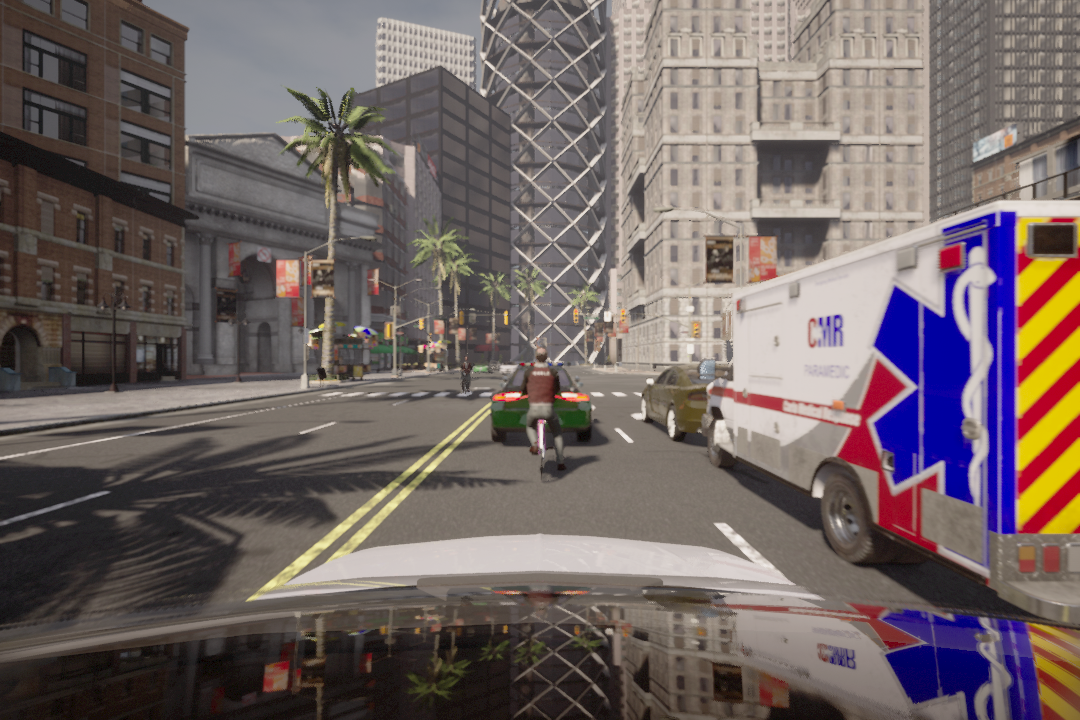walkside: (321, 386, 676, 403)
